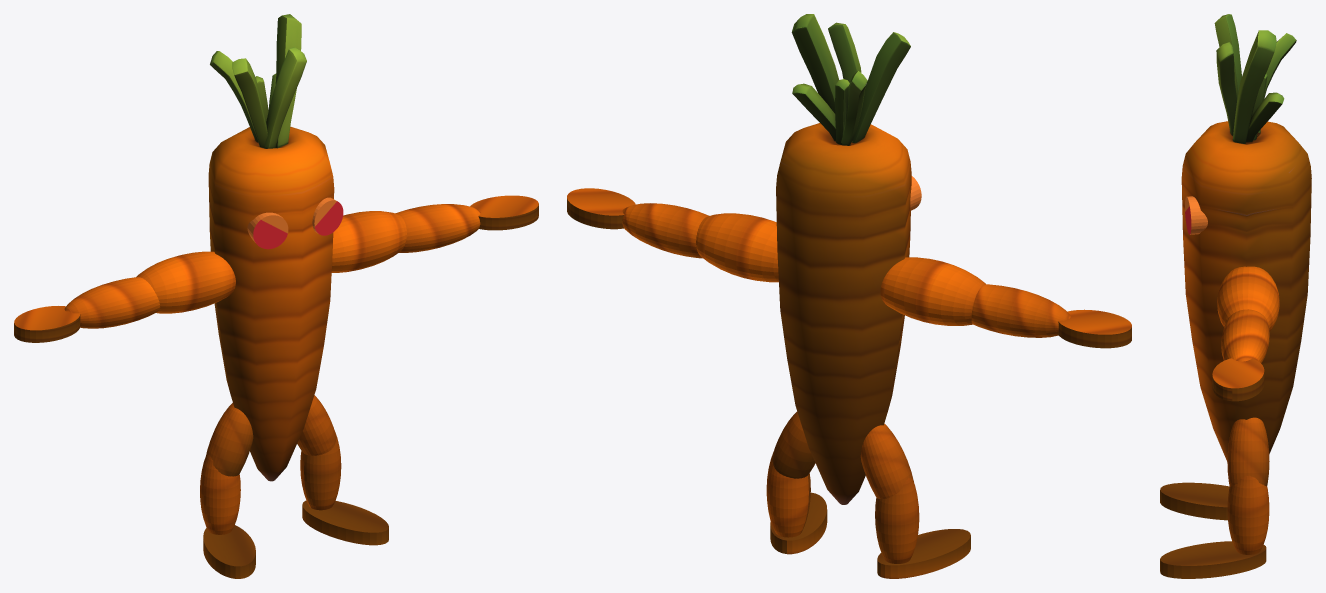
The model's file is cenourateste.fbx.
3 renders of one model, left to right at view 1: azimuth 30°, elevation 25°; view 2: azimuth 150°, elevation 25°; view 3: azimuth 270°, elevation 25°, orthographic. The views are drawn at different scales.
Parts seen in each view (by area): view 1: Carrot, Sphere.003, Sphere.008, Sphere.005, Sphere.009, Cylinder.001, Sphere.007, Sphere.006, Cylinder.004, Sphere.004, Cylinder.002, Cylinder.003 (+3 smaller); view 2: Carrot, Sphere.003, Sphere.008, Sphere.005, Sphere.009, Sphere.007, Cylinder.004, Sphere.006, Sphere.004, Cylinder.002, Cylinder.003, Sphere.002 (+1 smaller); view 3: Carrot, Cylinder.001, Sphere.004, Sphere.008, Sphere.002, Sphere.009, Cylinder.004, Cylinder.003, Cylinder.005.
Part boxes in pixels (x1=…): Carrot: x1=208, y1=14, x2=334, y2=481; Sphere.003: x1=136, y1=251, x2=235, y2=313; Sphere.008: x1=331, y1=211, x2=406, y2=272; Sphere.005: x1=64, y1=277, x2=160, y2=328; Sphere.009: x1=395, y1=204, x2=480, y2=252; Cylinder.001: x1=302, y1=500, x2=388, y2=545; Sphere.007: x1=200, y1=454, x2=240, y2=534; Sphere.006: x1=206, y1=403, x2=253, y2=476; Cylinder.004: x1=203, y1=525, x2=255, y2=578; Sphere.004: x1=300, y1=432, x2=341, y2=510; Cylinder.002: x1=14, y1=306, x2=80, y2=342; Cylinder.003: x1=470, y1=195, x2=538, y2=230; Carrot: x1=776, y1=14, x2=911, y2=504; Sphere.003: x1=880, y1=257, x2=985, y2=325; Sphere.008: x1=696, y1=213, x2=778, y2=282; Sphere.005: x1=971, y1=284, x2=1070, y2=337; Sphere.009: x1=622, y1=203, x2=709, y2=258; Sphere.007: x1=875, y1=478, x2=919, y2=563; Cylinder.004: x1=877, y1=529, x2=970, y2=578; Sphere.006: x1=860, y1=423, x2=913, y2=498; Sphere.004: x1=766, y1=452, x2=810, y2=537; Cylinder.002: x1=1058, y1=309, x2=1131, y2=348; Cylinder.003: x1=567, y1=188, x2=635, y2=229; Sphere.002: x1=772, y1=411, x2=815, y2=478; Carrot: x1=1181, y1=14, x2=1311, y2=461; Cylinder.001: x1=1160, y1=541, x2=1266, y2=578; Sphere.004: x1=1227, y1=475, x2=1269, y2=554; Sphere.008: x1=1217, y1=266, x2=1279, y2=331; Sphere.002: x1=1227, y1=417, x2=1269, y2=486; Sphere.009: x1=1221, y1=309, x2=1269, y2=363; Cylinder.004: x1=1160, y1=482, x2=1229, y2=520; Cylinder.003: x1=1212, y1=358, x2=1264, y2=401; Cylinder.005: x1=1185, y1=196, x2=1207, y2=234.
Size of the model in its own units: 370 by 342 by 90.9.
